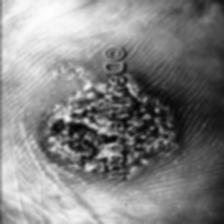Toxin: (42, 83, 173, 170)
